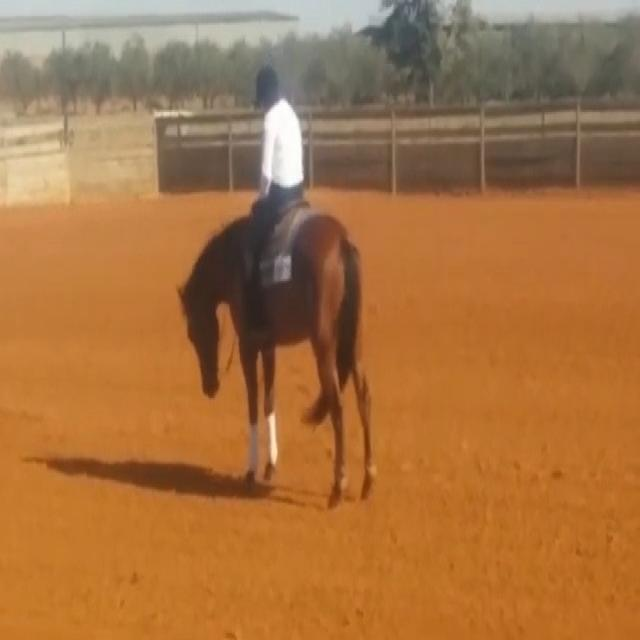horse: (175, 201, 378, 508)
